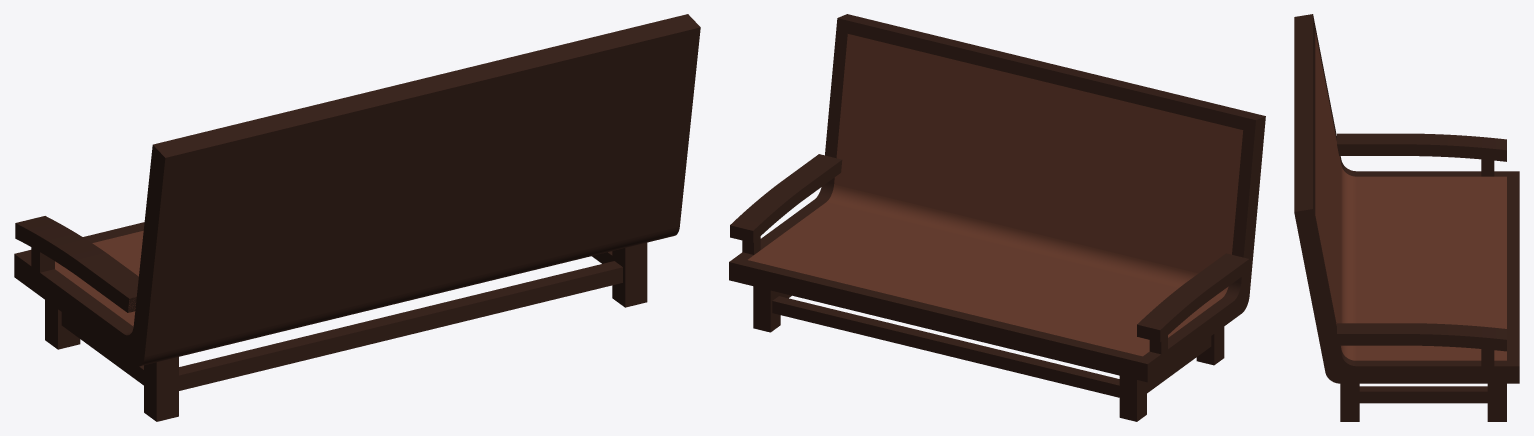
The picture shows the model from 3 angles, left to right: view 1: azimuth 30°, elevation 25°; view 2: azimuth 150°, elevation 25°; view 3: azimuth 270°, elevation 25°; orthographic projection. The views are drawn at different scales.
Parts seen in each view (by area): view 1: mesh1_mesh1-geometry; view 2: mesh1_mesh1-geometry; view 3: mesh1_mesh1-geometry.
Part boxes in pixels (<box>): mesh1_mesh1-geometry: <box>14,14,700,421</box>; mesh1_mesh1-geometry: <box>729,14,1265,421</box>; mesh1_mesh1-geometry: <box>1294,14,1519,421</box>.
Bounding box in the file's own units: 0.819 × 0.4213 × 0.3897.
